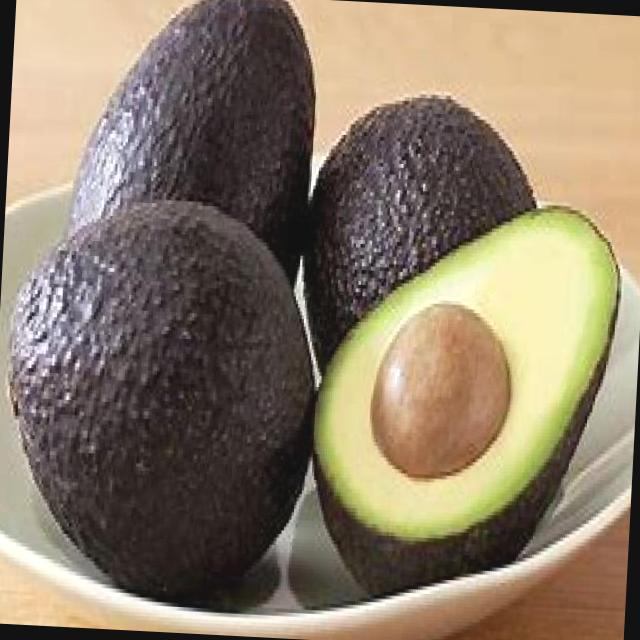avocado: (301, 191, 634, 604), (0, 189, 323, 607)
